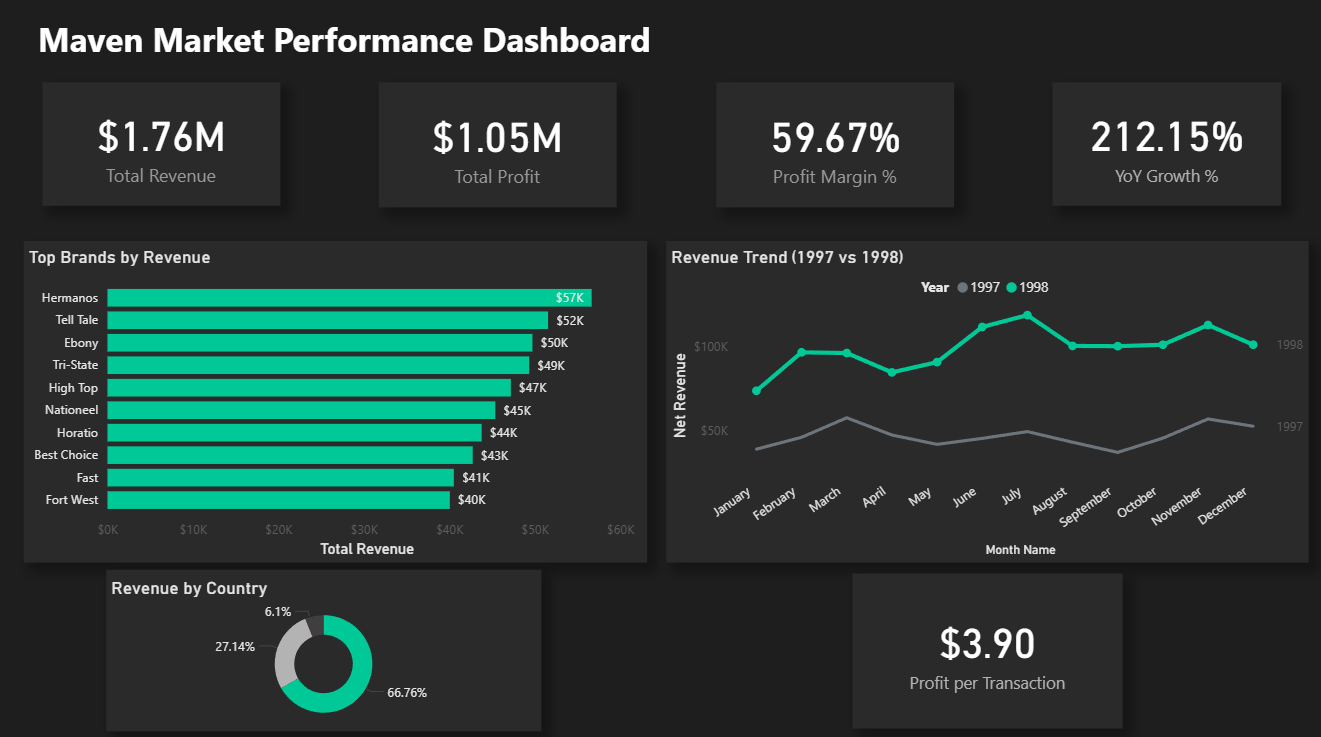

This screenshot's page, from the dashboard's own definition file:
{"tool":"powerbi","page":{"name":"Executive  Overview","canvas":[1280,720],"ordinal":0},"visuals":[{"type":"shape","box":[13.8,216.2,1257.5,348.8],"z":0},{"type":"textbox","box":[22.5,12.5,637.5,61.2],"z":1000},{"type":"card","fields":{"Values":["Metrics.Total Revenue"]},"box":[41,83.2,229.2,119.4],"z":2000},{"type":"card","fields":{"Values":["Metrics.Total Profit"]},"box":[366,83.2,229.2,120.6],"z":3000},{"type":"card","fields":{"Values":["Metrics.Profit Margin %"]},"box":[690.9,83.2,229.2,120.6],"z":4000},{"type":"lineChart","title":"Revenue Trend (1997 vs 1998)","fields":{"Category":["Calendar.Month Name"],"Y":["Metrics.Net Revenue"],"Series":["Calendar.Year"]},"box":[642.5,236.2,620,310],"z":5000},{"type":"clusteredBarChart","title":"Top Brands by Revenue","fields":{"Category":["Products.product_brand"],"Y":["Metrics.Total Revenue"]},"box":[22.5,236.2,601.2,310],"z":6000},{"type":"donutChart","title":"Revenue by Country","fields":{"Category":["Customers.customer_country"],"Y":["Metrics.Total Revenue"]},"box":[102.5,553.8,419.8,155.6],"z":7000},{"type":"card","title":"Year-over-Year Growth","fields":{"Values":["Metrics.YoY Growth %"]},"box":[1015.8,83.2,220.8,119.4],"z":8000},{"type":"card","title":"Year-over-Year Growth","fields":{"Values":["Metrics.Profit per Transaction"]},"box":[822.8,557.4,260.6,149.6],"z":9000}]}

Visuals, with their boxes in screenshot pixels (x1, y1, x2, y2), scaled from the page's 1280x720 canvas onto the 1321x737 screenshot:
shape: x1=14 y1=221 x2=1312 y2=578
textbox: x1=23 y1=13 x2=681 y2=75
card - Metrics.Total Revenue: x1=42 y1=85 x2=279 y2=207
card - Metrics.Total Profit: x1=378 y1=85 x2=614 y2=209
card - Metrics.Profit Margin %: x1=713 y1=85 x2=950 y2=209
"Revenue Trend (1997 vs 1998)" lineChart: x1=663 y1=242 x2=1303 y2=559
"Top Brands by Revenue" clusteredBarChart: x1=23 y1=242 x2=644 y2=559
"Revenue by Country" donutChart: x1=106 y1=567 x2=539 y2=726
"Year-over-Year Growth" card: x1=1048 y1=85 x2=1276 y2=207
"Year-over-Year Growth" card: x1=849 y1=571 x2=1118 y2=724
